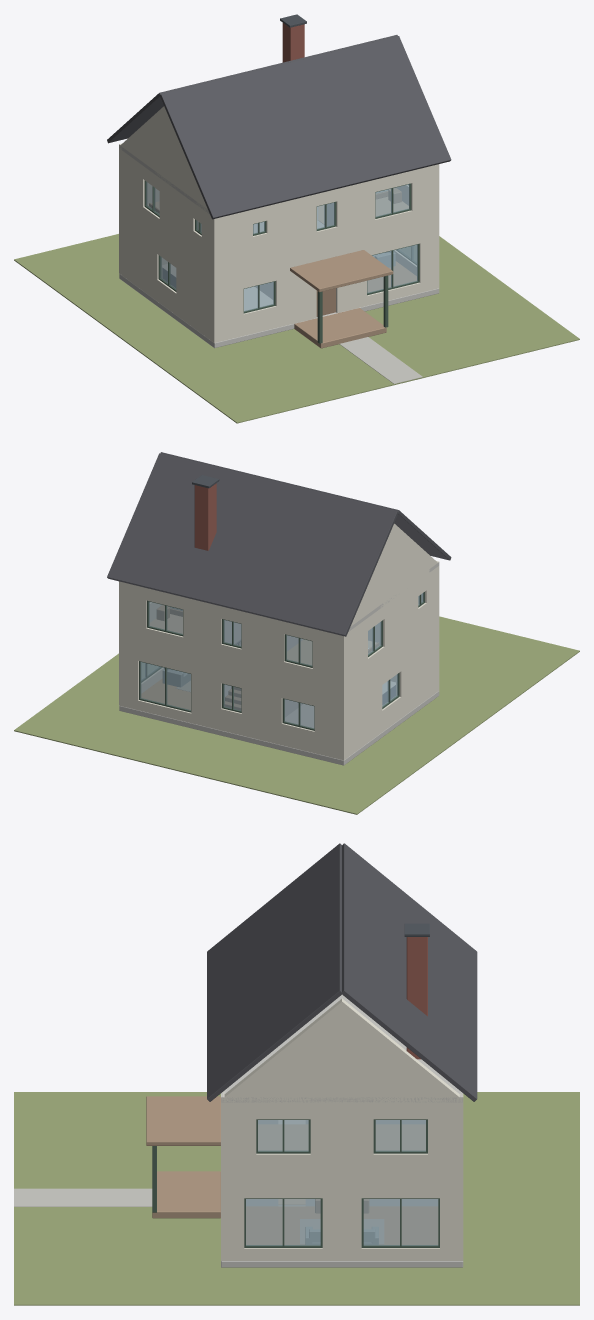
File: a-low-poly-two-storey-cottage-with-2-bedrooms-a-porch-and-a--83-lowpoly.glb
3 renders of one model, top to bottom at view 1: azimuth 30°, elevation 25°; view 2: azimuth 150°, elevation 25°; view 3: azimuth 270°, elevation 25°, orthographic. The views are drawn at different scales.
Visible parts, largest first — view 1: site, roof, floor_0, floor_1; view 2: roof, site, floor_0, floor_1; view 3: site, roof, floor_0, floor_1.
Boxes of the visible parts, x1,y1,x2,y2 form: site: (14, 234, 579, 423); roof: (107, 14, 451, 219); floor_0: (119, 209, 439, 343); floor_1: (119, 143, 439, 278); roof: (107, 452, 451, 636); site: (14, 616, 579, 814); floor_0: (119, 626, 439, 760); floor_1: (119, 561, 439, 695); site: (14, 1092, 579, 1305); roof: (207, 843, 477, 1102); floor_0: (146, 1096, 463, 1260); floor_1: (221, 1090, 463, 1179).
Bounding box in the file's own units: 16.7 × 10.92 × 18.8.
